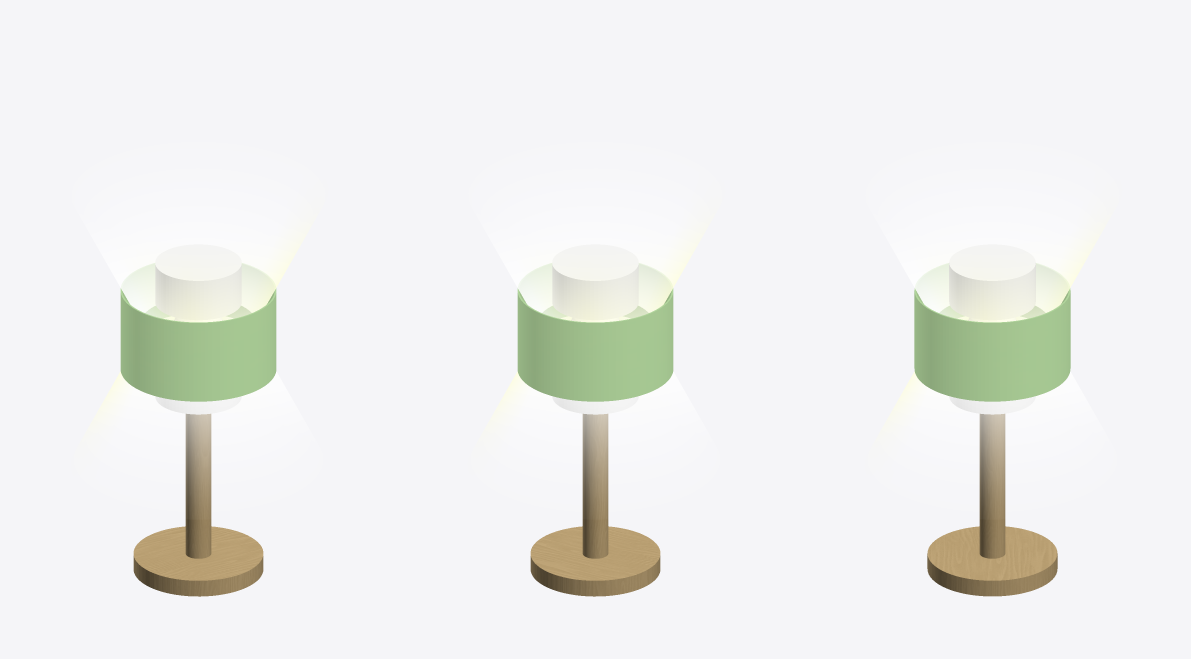
The model's file is GREEN_ON.glb.
The picture shows the model from 3 angles, left to right: view 1: azimuth 30°, elevation 25°; view 2: azimuth 150°, elevation 25°; view 3: azimuth 270°, elevation 25°; orthographic projection.
Visible parts, largest first — view 1: LIGHT_UP, LIGHT_DOWN, SHELL, BASE, INNER_TOP, INNER_BOT; view 2: LIGHT_UP, LIGHT_DOWN, SHELL, BASE, INNER_TOP, INNER_BOT; view 3: LIGHT_UP, LIGHT_DOWN, SHELL, BASE, INNER_TOP, INNER_BOT.
Part boxes in pixels (box(x1,y1,x2,y2)): LIGHT_UP: box(79, 168, 317, 322); LIGHT_DOWN: box(82, 316, 314, 484); SHELL: box(120, 263, 276, 401); BASE: box(133, 414, 263, 596); INNER_TOP: box(155, 244, 241, 319); INNER_BOT: box(155, 396, 241, 414); LIGHT_UP: box(476, 168, 714, 322); LIGHT_DOWN: box(479, 316, 711, 484); SHELL: box(517, 263, 673, 401); BASE: box(530, 414, 660, 596); INNER_TOP: box(552, 244, 638, 319); INNER_BOT: box(552, 396, 638, 414); LIGHT_UP: box(873, 169, 1111, 322); LIGHT_DOWN: box(876, 316, 1108, 484); SHELL: box(914, 263, 1070, 401); BASE: box(927, 414, 1057, 596); INNER_TOP: box(949, 244, 1035, 319); INNER_BOT: box(949, 396, 1035, 414).
Size of the model in its own units: 0.4256 by 0.6074 by 0.4256.
4 materials, 4 textured.
